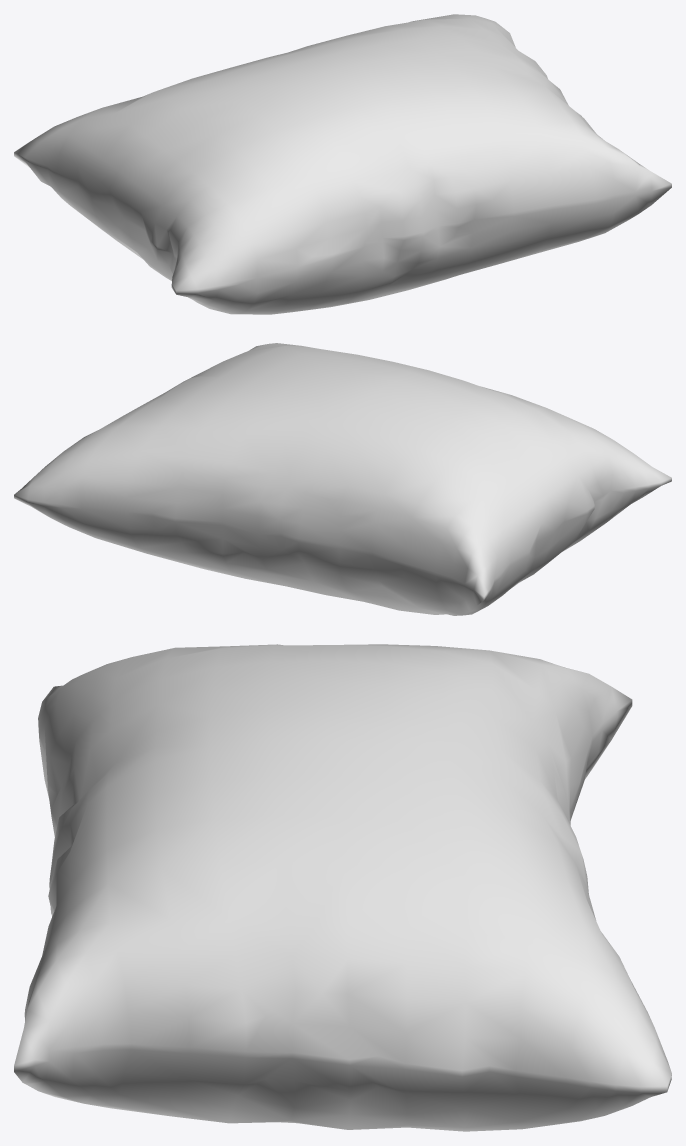
The model's file is mcdonough_pillow.fbx.
3 renders of one model, top to bottom at view 1: azimuth 30°, elevation 25°; view 2: azimuth 150°, elevation 25°; view 3: azimuth 270°, elevation 25°, orthographic. The views are drawn at different scales.
Parts seen in each view (by area): view 1: Mcdonough Canopy Bed.002; view 2: Mcdonough Canopy Bed.002; view 3: Mcdonough Canopy Bed.002.
Boxes of the visible parts, box(x1,y1,x2,y2) form: Mcdonough Canopy Bed.002: box(14, 14, 671, 314); Mcdonough Canopy Bed.002: box(14, 343, 671, 615); Mcdonough Canopy Bed.002: box(14, 644, 671, 1131).
Size of the model in its own units: 0.6153 by 0.2323 by 0.4306.
